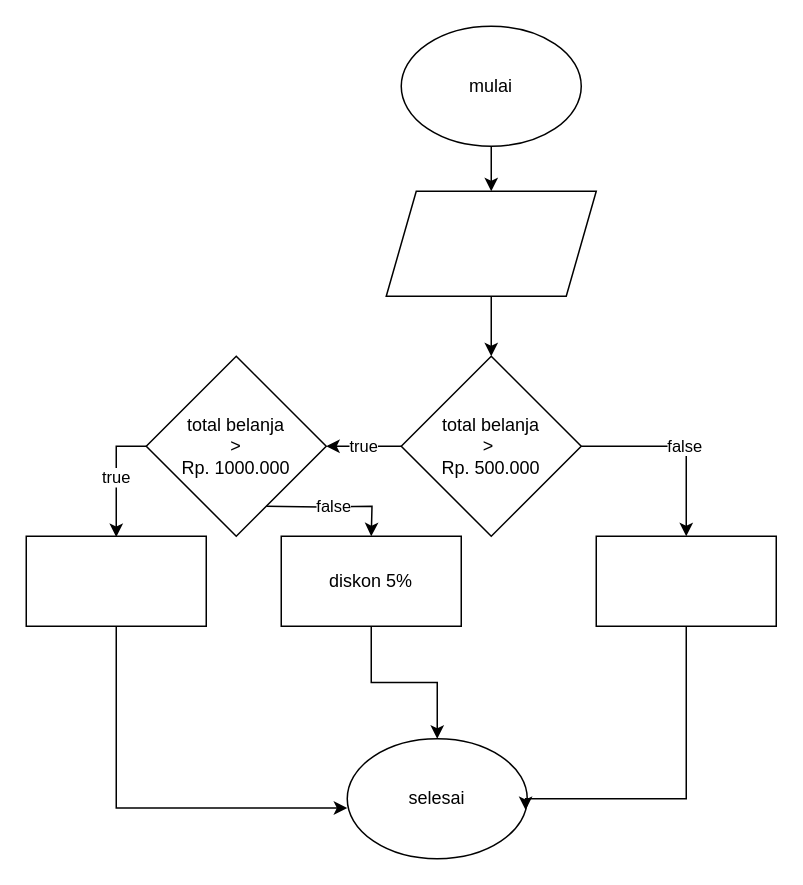
The diagram is 803 pixels wide and 885 high, and some of its shapes have lost their labels. The shapes that lost their labels are listed below. From the top down, each one's box as (x1, y1, x2, y2) in pixels, then its label:
(385, 190, 596, 296): input total belanja
(25, 535, 206, 626): diskon 10%
(595, 535, 776, 626): diskon 0%
